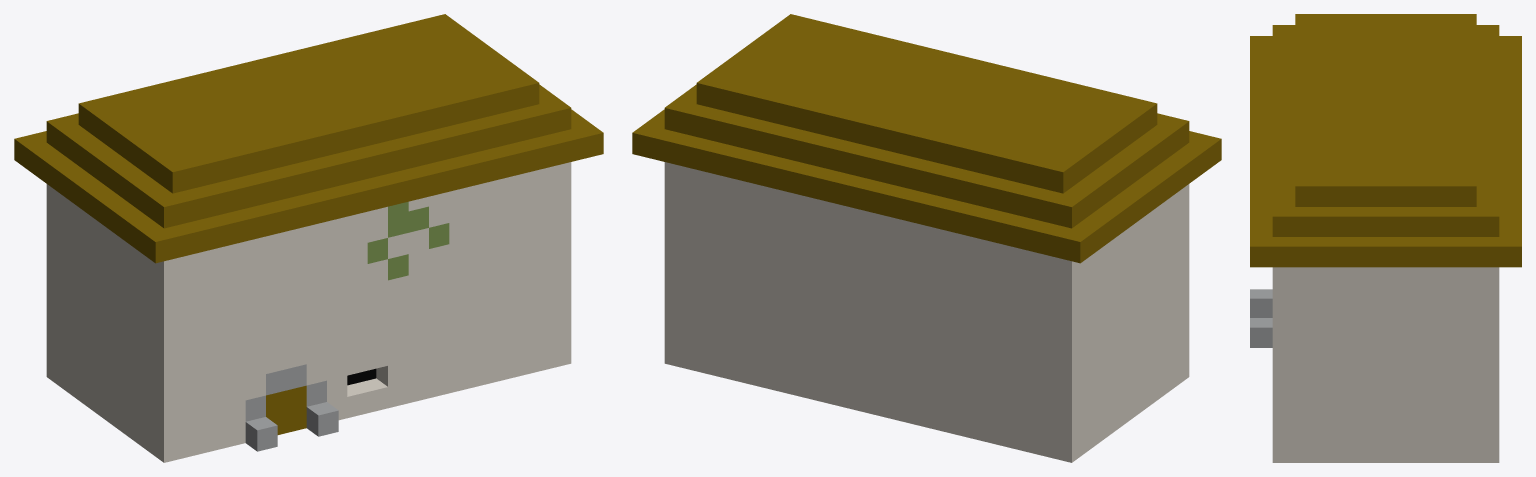
Rendered from Building2.fbx.
3 renders of one model, left to right at view 1: azimuth 30°, elevation 25°; view 2: azimuth 150°, elevation 25°; view 3: azimuth 270°, elevation 25°, orthographic. The views are drawn at different scales.
Visible parts, largest first — view 1: Building2:model_Building2_obj; view 2: Building2:model_Building2_obj; view 3: Building2:model_Building2_obj.
Part boxes in pixels (x1,y1,x2,y2): Building2:model_Building2_obj: (14,14,603,462); Building2:model_Building2_obj: (632,14,1221,462); Building2:model_Building2_obj: (1250,14,1521,462).
Size of the model in its own units: 22 by 13 by 12.
